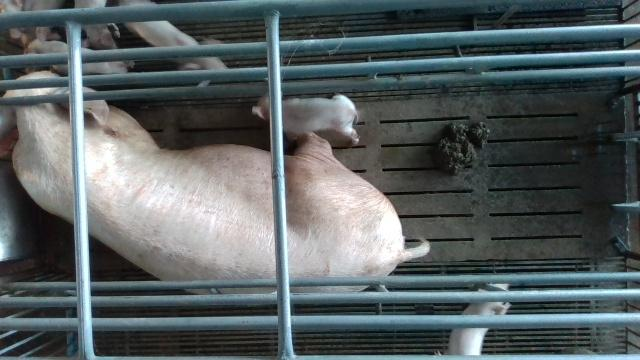piglet: (121, 0, 228, 71), (253, 89, 360, 144), (435, 283, 510, 354), (28, 29, 134, 76), (73, 0, 119, 49)
sow-sit: (2, 67, 432, 294)
